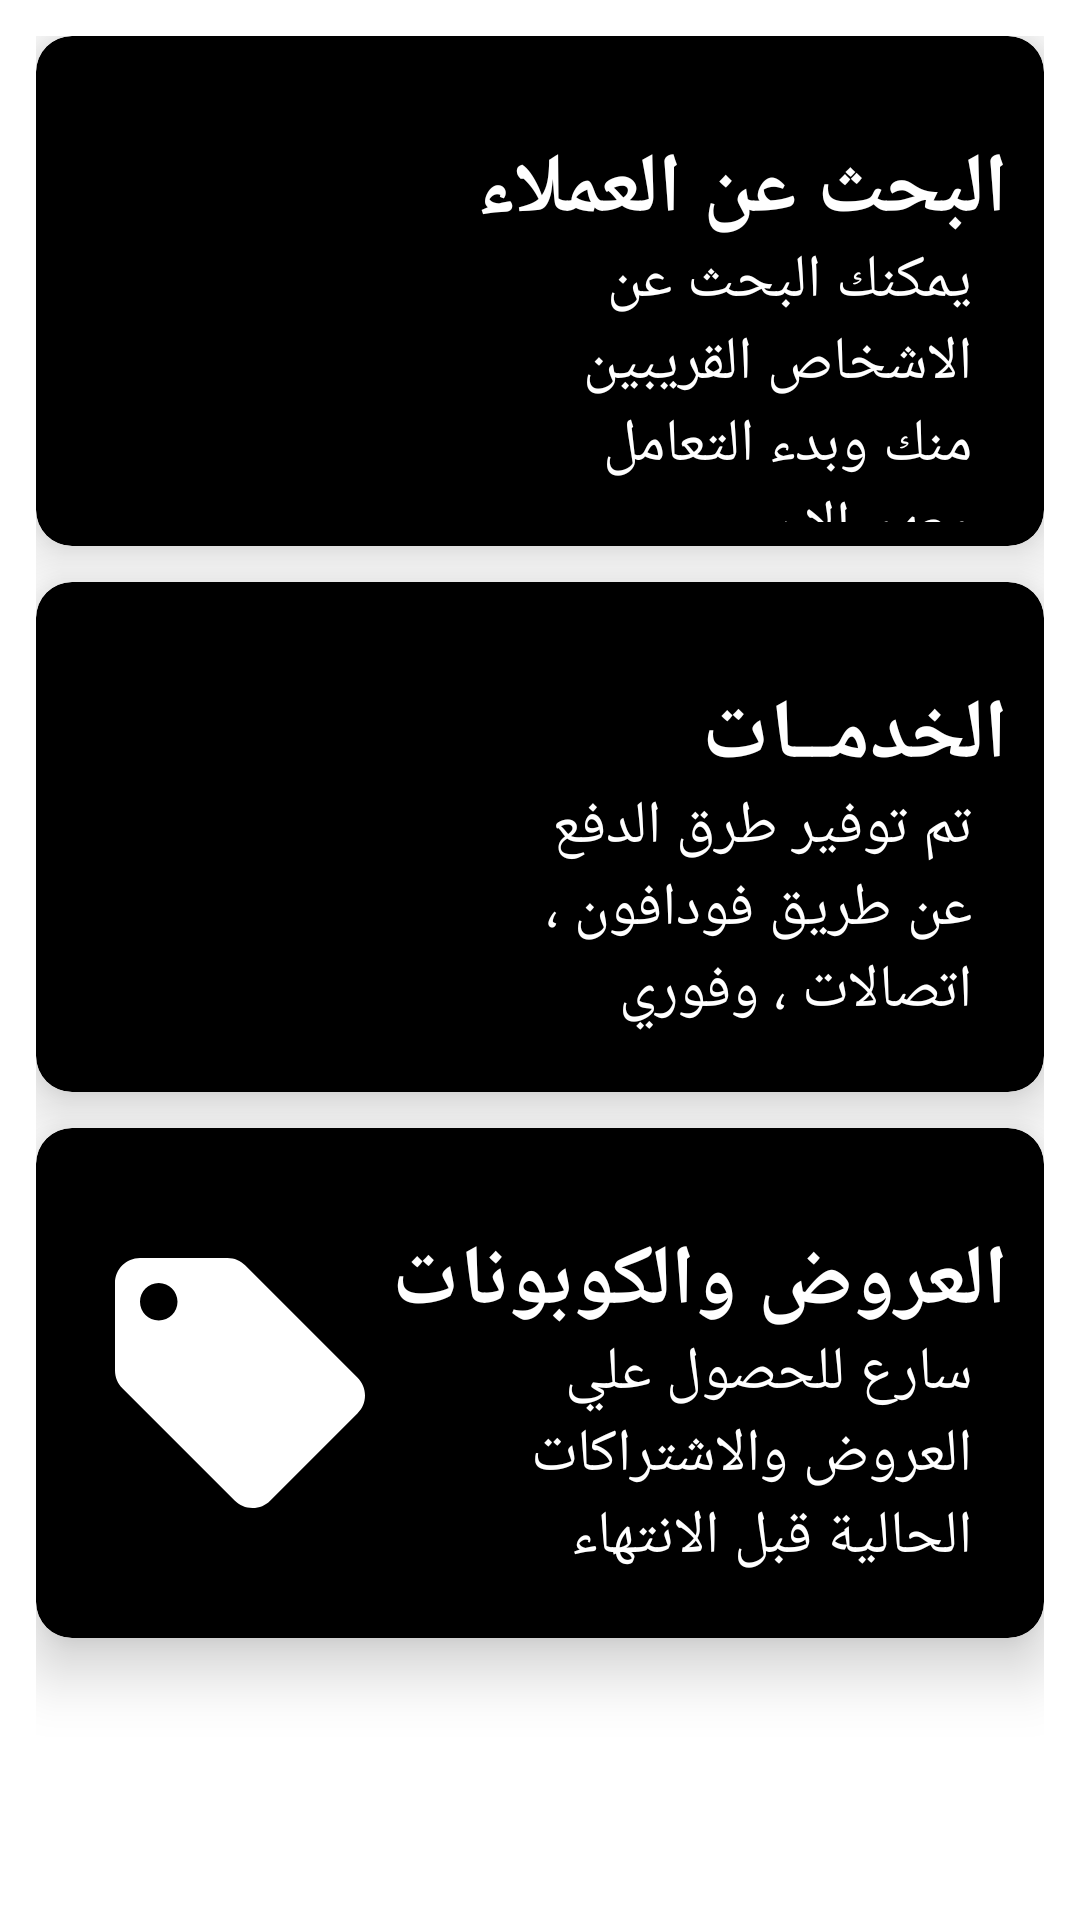

Icon bounding boxes for this 1080x1920 phone screenshot, format bbox=[x1, y1, x2, y2]:
offers: bbox=[115, 1258, 365, 1508]
